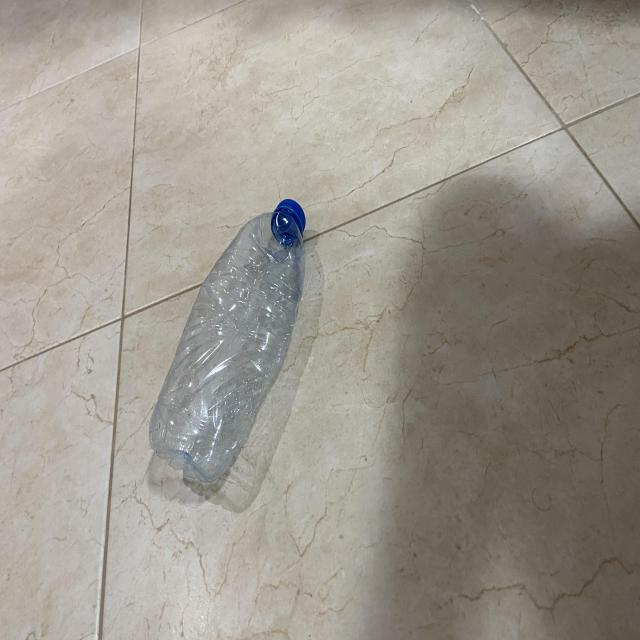bottle: (145, 182, 317, 506)
